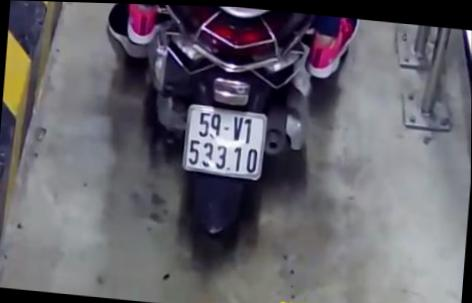LP: (178, 99, 271, 183)
